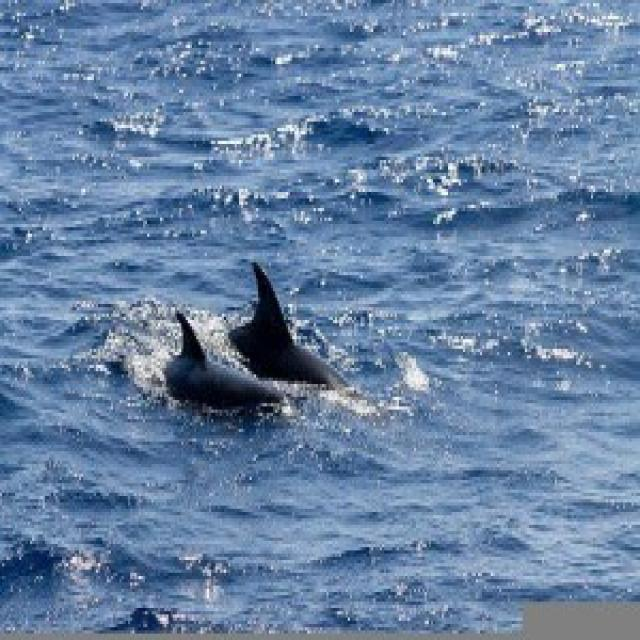Dolphin: (226, 248, 360, 394), (133, 302, 267, 439)
